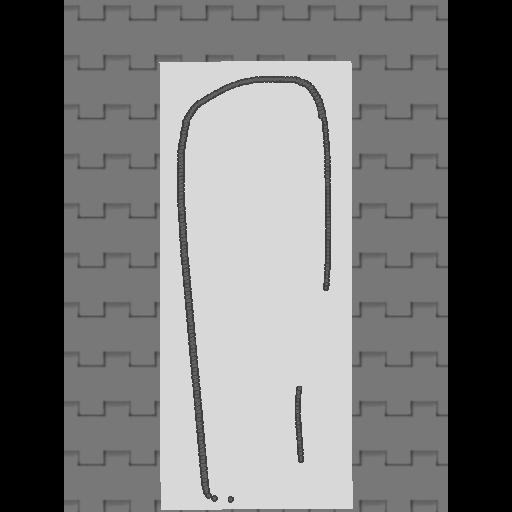Defect: (289, 288, 333, 392)
